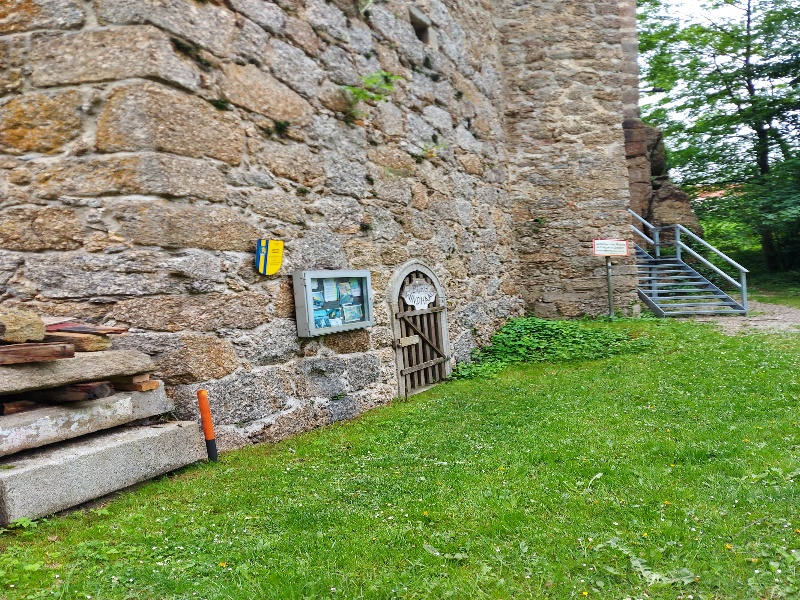dungeon: (378, 256, 464, 397)
